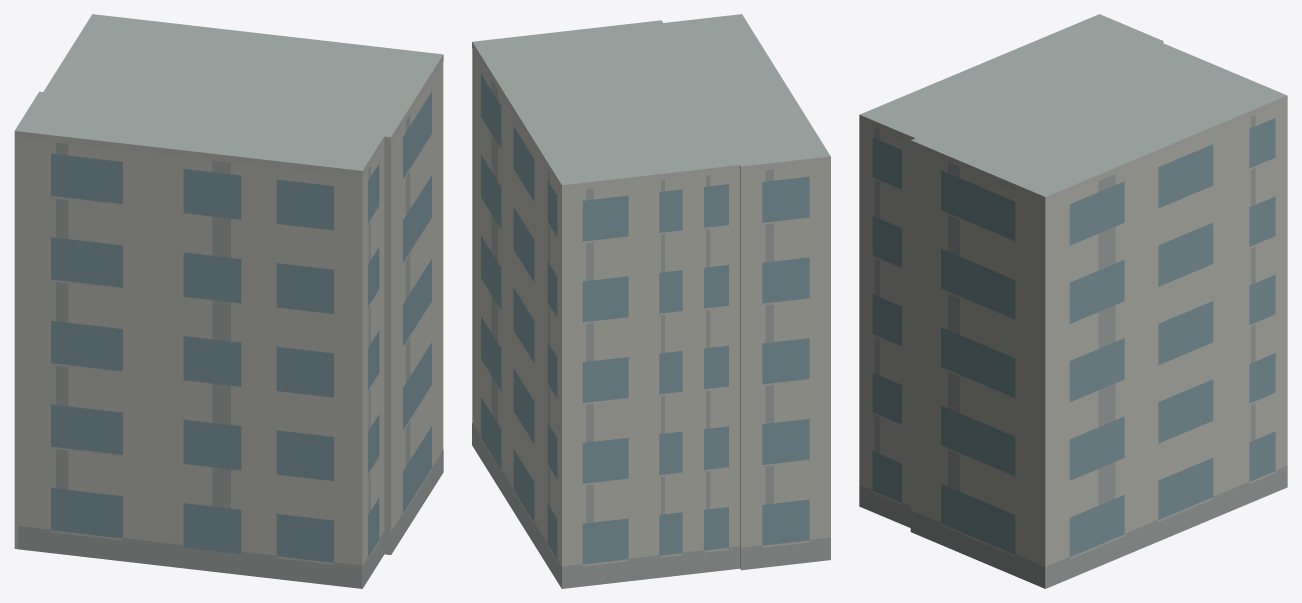
File: survey-upis-32563380.glb
3 views of the same model, side by side, from view 1: azimuth 30°, elevation 25°; view 2: azimuth 150°, elevation 25°; view 3: azimuth 270°, elevation 25° (orthographic). The views are drawn at different scales.
Visible parts, largest first — view 1: survey-upis-32563380.tmp; view 2: survey-upis-32563380.tmp; view 3: survey-upis-32563380.tmp.
Part boxes in pixels (<box>): survey-upis-32563380.tmp: <box>14,14,443,588</box>; survey-upis-32563380.tmp: <box>472,14,830,588</box>; survey-upis-32563380.tmp: <box>859,14,1287,588</box>.
Bounding box in the file's own units: 14.64 × 14.6 × 14.46.
